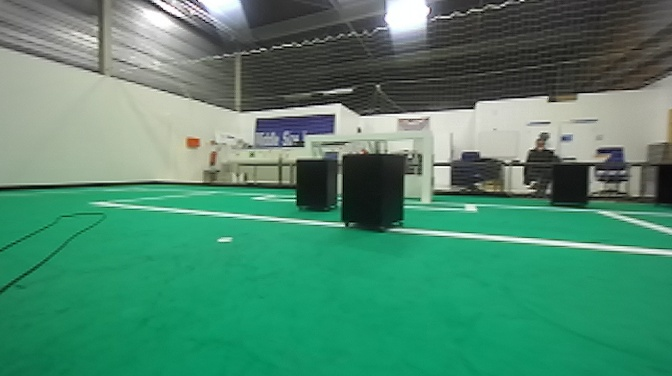goalpost: (417, 129, 436, 204), (306, 135, 321, 158)
